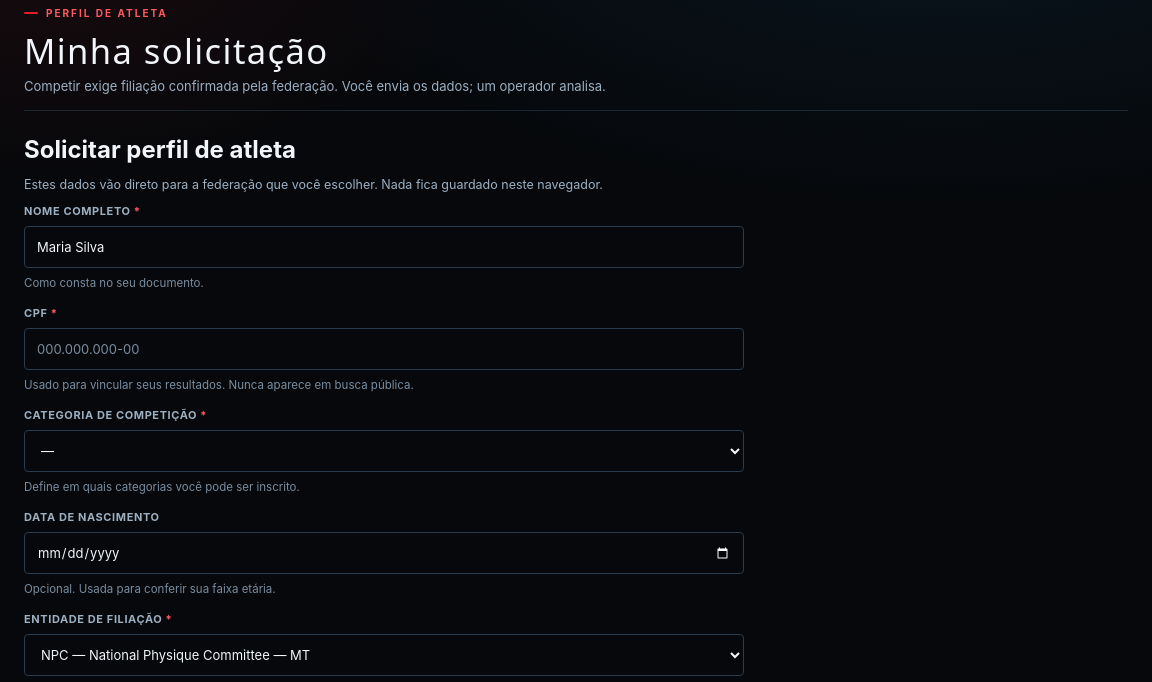
Scenario: minha solicitação › CPF com dígito verificador errado nem chega à rede
Type "11144477736" into the field labelled "CPF". click: (384, 349)
box: [24,328,744,370]
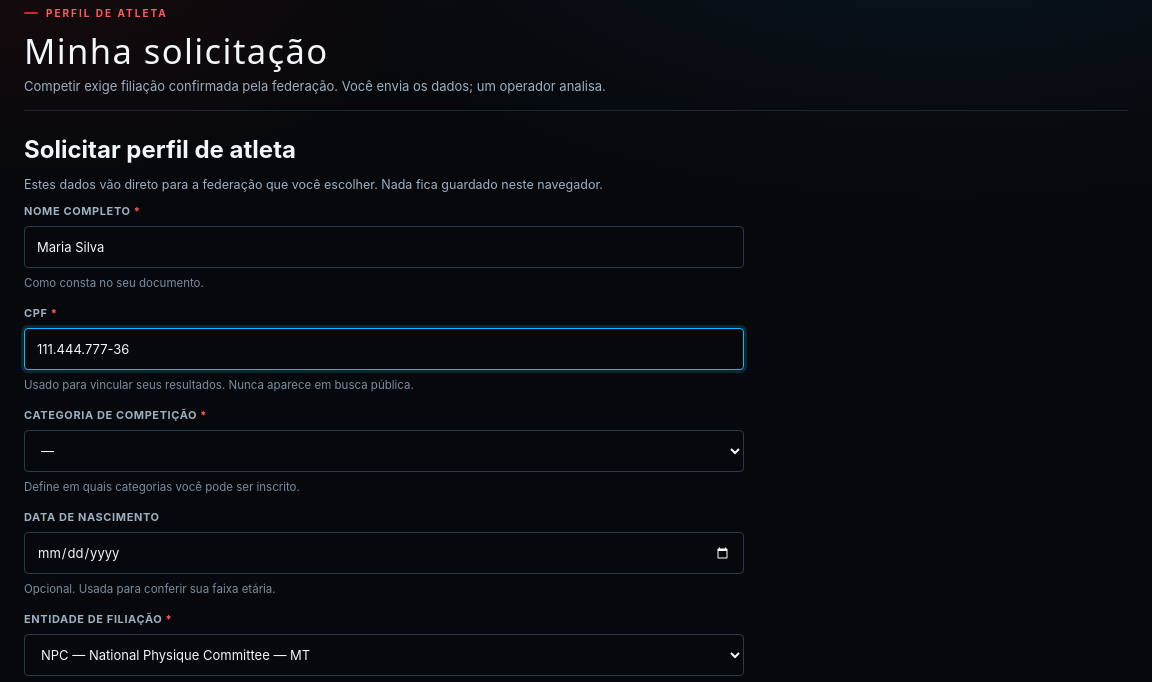
Select "Feminino" in the dropdown labelled "Categoria de competição". click: (384, 451)
box: [24,430,744,472]
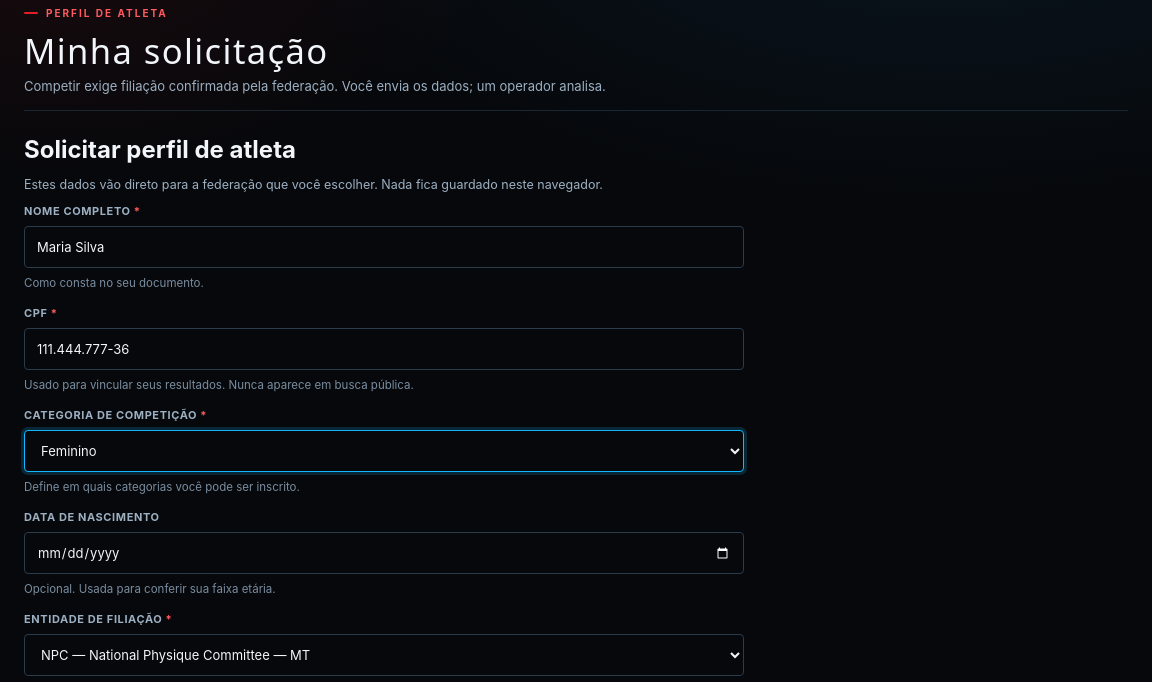
Select "NPC — National Physique Committee — MT" in the dropdown labelled "Entidade de filiação". click: (384, 655)
box: [24,634,744,676]
(page scrolled)
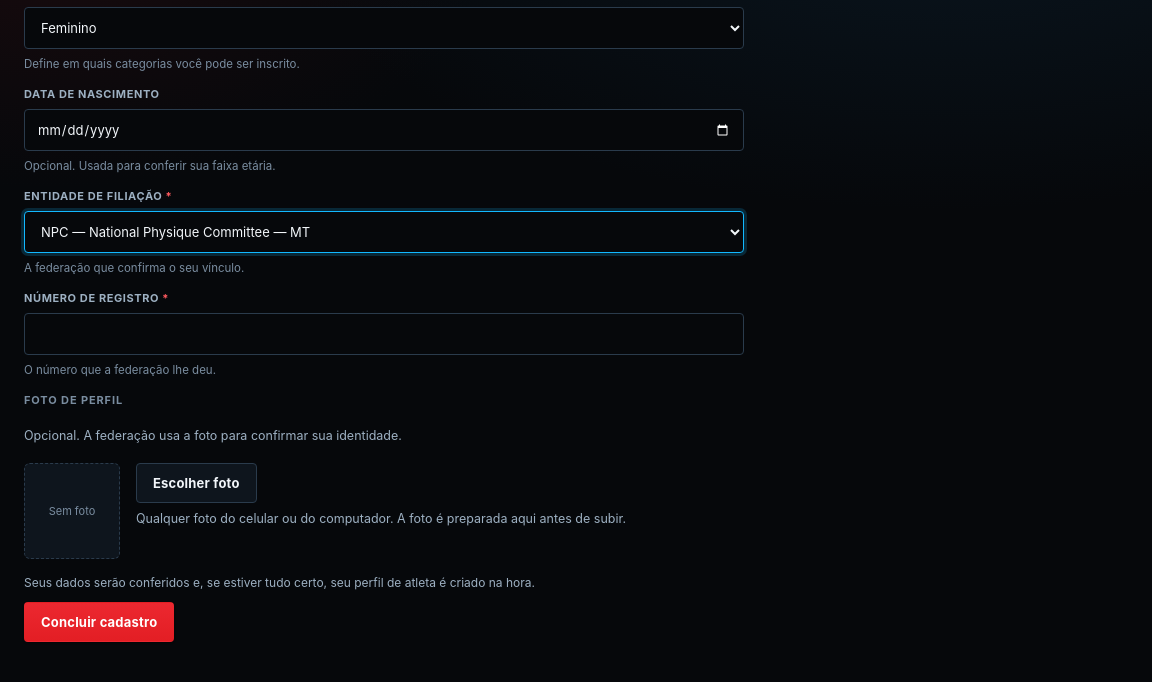
Type "NPC-123" into the field labelled "Número de registro * O número que a federação lhe deu.". click: (384, 334)
box: [24,313,744,355]
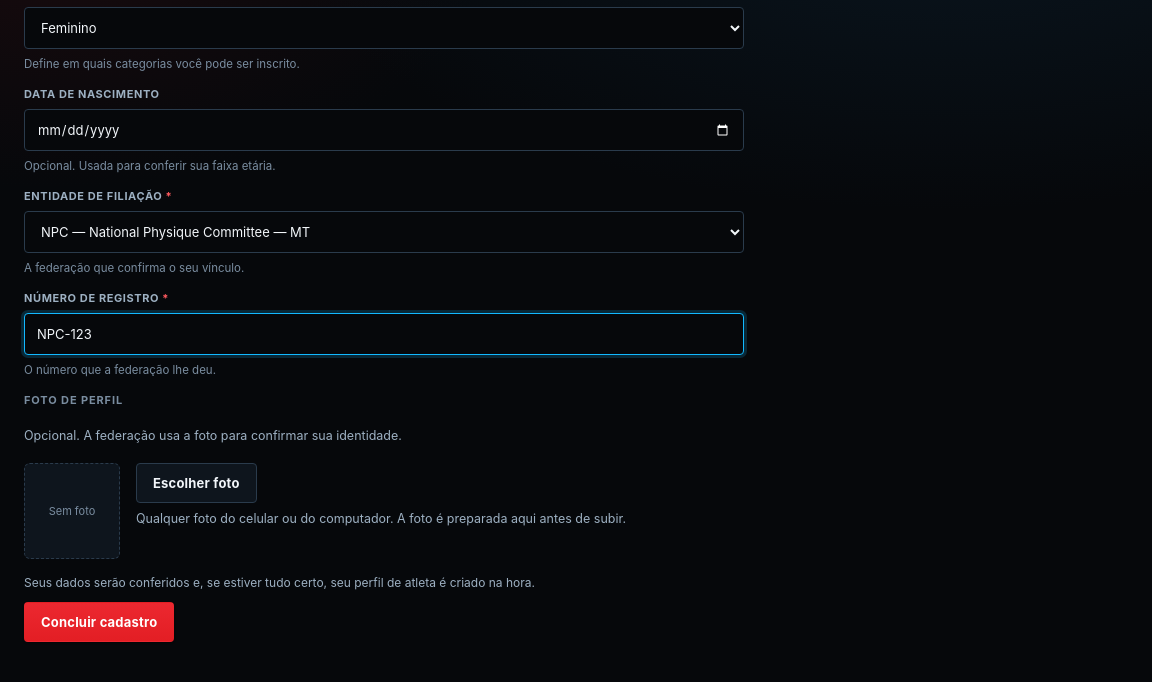
Click the button "Concluir cadastro". click: click(99, 622)
box: [24,602,174,642]
(page scrolled)
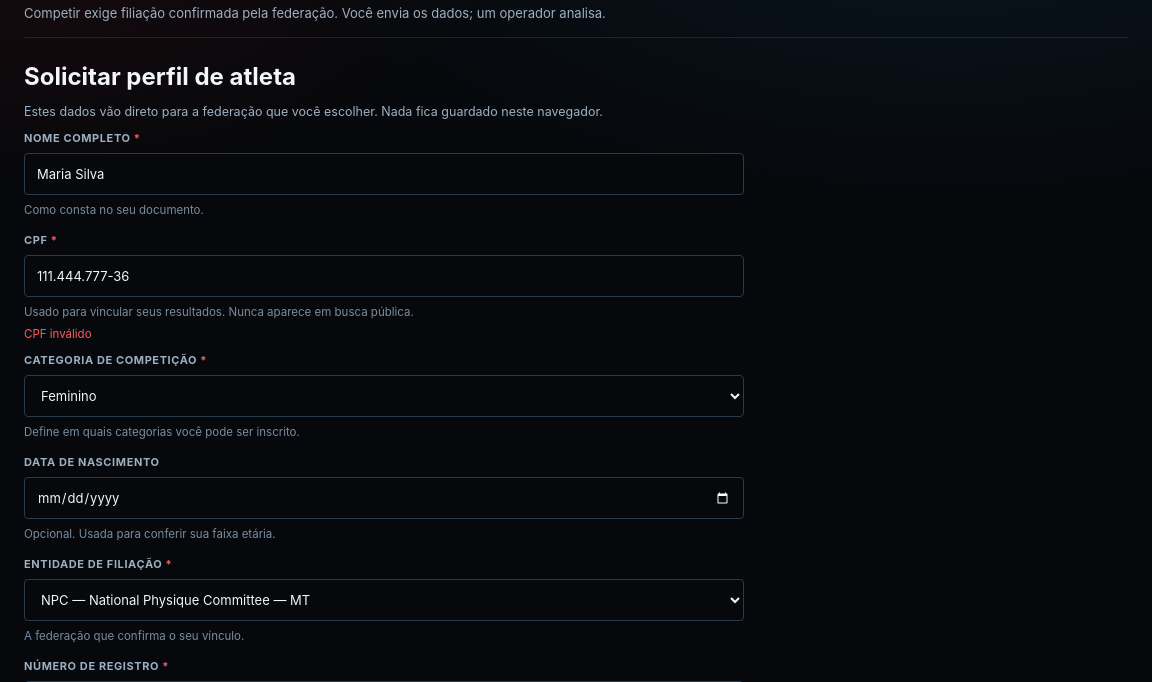
Result: the text "CPF inválido" is shown at [24,327,92,341]
